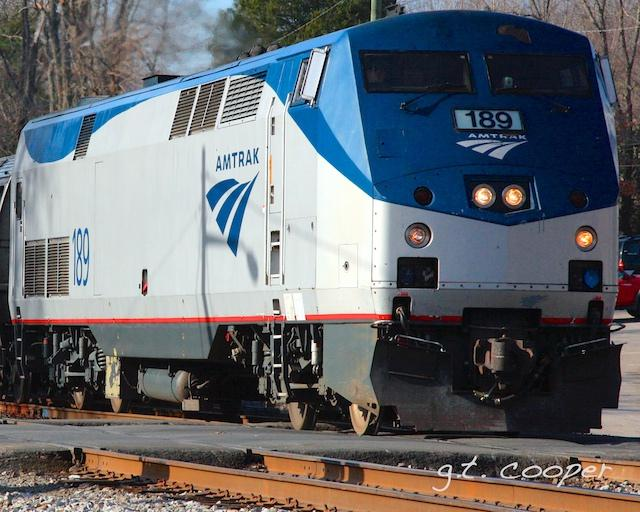Train: (2, 5, 628, 448)
